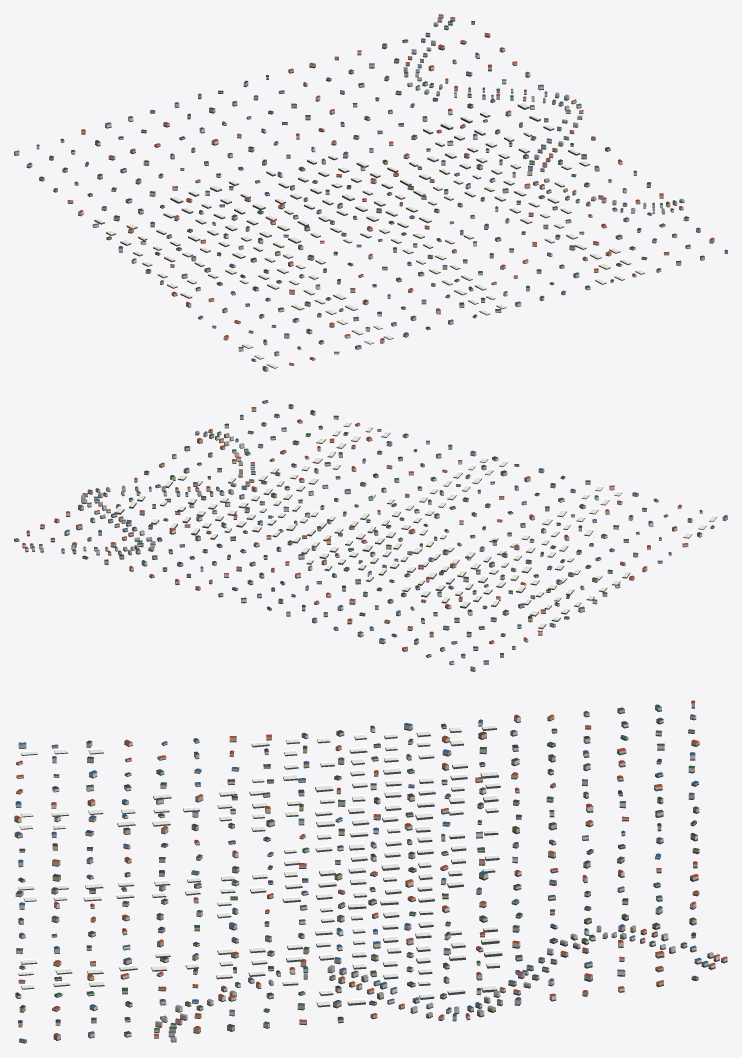
File: buildings_T_W01_N04.glb
The picture shows the model from 3 angles, top to bottom: view 1: azimuth 30°, elevation 25°; view 2: azimuth 150°, elevation 25°; view 3: azimuth 270°, elevation 25°; orthographic projection. The views are drawn at different scales.
Visible parts, largest first — view 1: T_W01_N04_slope_seating_foundations, T_W01_N04_roofs_agri_greenhouse_arch, T_W01_N04_walls_wall_pastel_sand_gray, T_W01_N04_walls_wall_french_ochre_villa, T_W01_N04_walls_wall_dalat_cream_stucco, T_W01_N04_walls_wall_modern_warm_white, T_W01_N04_roofs_roof_terracotta_gable, T_W01_N04_roofs_roof_highland_blue_gable, T_W01_N04_roofs_roof_slate_French_villa_hip, T_W01_N04_roofs_roof_pine_green_hip; view 2: T_W01_N04_slope_seating_foundations, T_W01_N04_roofs_agri_greenhouse_arch, T_W01_N04_walls_wall_pastel_sand_gray, T_W01_N04_walls_wall_french_ochre_villa, T_W01_N04_walls_wall_dalat_cream_stucco, T_W01_N04_walls_wall_modern_warm_white, T_W01_N04_roofs_roof_terracotta_gable, T_W01_N04_roofs_roof_highland_blue_gable, T_W01_N04_roofs_roof_slate_French_villa_hip, T_W01_N04_roofs_roof_pine_green_hip; view 3: T_W01_N04_slope_seating_foundations, T_W01_N04_roofs_agri_greenhouse_arch, T_W01_N04_walls_wall_pastel_sand_gray, T_W01_N04_walls_wall_french_ochre_villa, T_W01_N04_walls_wall_dalat_cream_stucco, T_W01_N04_walls_wall_modern_warm_white, T_W01_N04_roofs_roof_terracotta_gable, T_W01_N04_roofs_roof_highland_blue_gable, T_W01_N04_roofs_roof_slate_French_villa_hip, T_W01_N04_roofs_roof_pine_green_hip.
Part boxes in pixels (bbox=[...]): T_W01_N04_slope_seating_foundations: bbox=[14, 17, 727, 371]; T_W01_N04_roofs_agri_greenhouse_arch: bbox=[94, 102, 645, 367]; T_W01_N04_walls_wall_pastel_sand_gray: bbox=[14, 22, 714, 371]; T_W01_N04_walls_wall_french_ochre_villa: bbox=[39, 34, 727, 344]; T_W01_N04_walls_wall_dalat_cream_stucco: bbox=[26, 21, 690, 365]; T_W01_N04_walls_wall_modern_warm_white: bbox=[36, 14, 689, 343]; T_W01_N04_roofs_roof_terracotta_gable: bbox=[15, 14, 714, 364]; T_W01_N04_roofs_roof_highland_blue_gable: bbox=[27, 21, 727, 368]; T_W01_N04_roofs_roof_slate_French_villa_hip: bbox=[49, 39, 704, 348]; T_W01_N04_roofs_roof_pine_green_hip: bbox=[39, 21, 676, 348]; T_W01_N04_slope_seating_foundations: bbox=[14, 402, 727, 671]; T_W01_N04_roofs_agri_greenhouse_arch: bbox=[114, 421, 717, 627]; T_W01_N04_walls_wall_pastel_sand_gray: bbox=[14, 408, 727, 670]; T_W01_N04_walls_wall_french_ochre_villa: bbox=[26, 401, 677, 656]; T_W01_N04_walls_wall_dalat_cream_stucco: bbox=[30, 415, 702, 663]; T_W01_N04_walls_wall_modern_warm_white: bbox=[22, 425, 661, 664]; T_W01_N04_roofs_roof_terracotta_gable: bbox=[22, 407, 702, 668]; T_W01_N04_roofs_roof_highland_blue_gable: bbox=[30, 400, 727, 662]; T_W01_N04_roofs_roof_slate_French_villa_hip: bbox=[82, 404, 701, 655]; T_W01_N04_roofs_roof_pine_green_hip: bbox=[14, 422, 667, 655]; T_W01_N04_slope_seating_foundations: bbox=[14, 707, 727, 1043]; T_W01_N04_roofs_agri_greenhouse_arch: bbox=[18, 724, 502, 1005]; T_W01_N04_walls_wall_pastel_sand_gray: bbox=[15, 703, 699, 1039]; T_W01_N04_walls_wall_french_ochre_villa: bbox=[14, 709, 699, 1042]; T_W01_N04_walls_wall_dalat_cream_stucco: bbox=[14, 706, 713, 1032]; T_W01_N04_walls_wall_modern_warm_white: bbox=[51, 715, 727, 1036]; T_W01_N04_roofs_roof_terracotta_gable: bbox=[14, 700, 727, 1036]; T_W01_N04_roofs_roof_highland_blue_gable: bbox=[15, 704, 708, 1041]; T_W01_N04_roofs_roof_slate_French_villa_hip: bbox=[15, 717, 697, 1034]; T_W01_N04_roofs_roof_pine_green_hip: bbox=[16, 707, 699, 1029].
Bounding box in the file's own units: 1844 × 210 × 1773.
